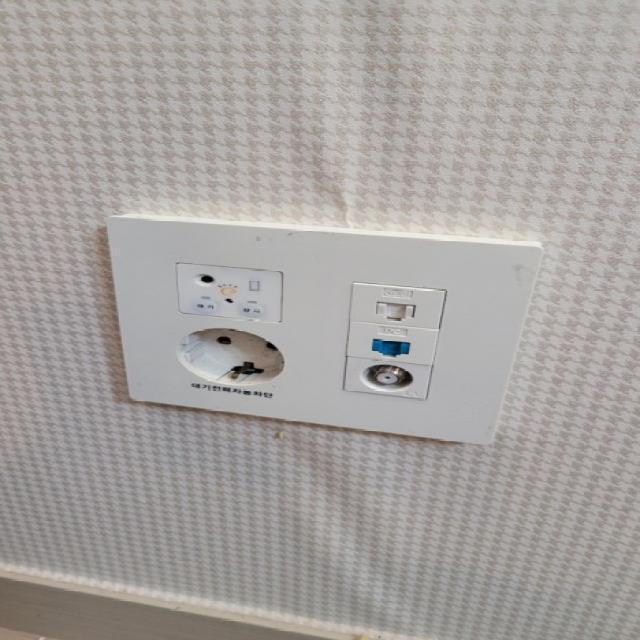typeb: (69, 197, 554, 454)
